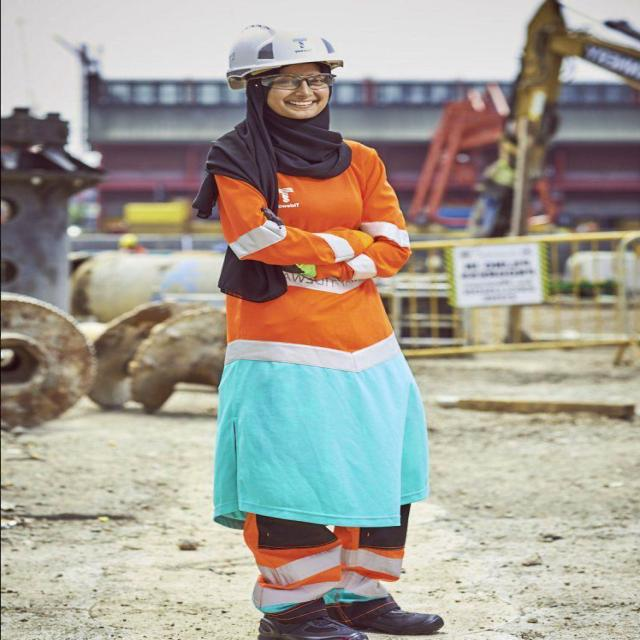face_nomask: (266, 71, 345, 119)
glasses: (254, 73, 341, 92)
head_helmet: (226, 21, 341, 75)
person: (197, 50, 440, 639)
shoes: (333, 593, 454, 637), (245, 603, 377, 640)
